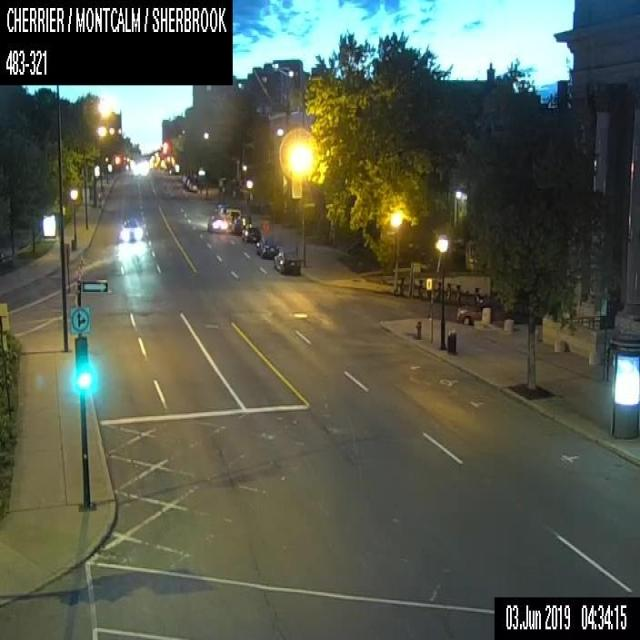vehicle: (456, 296, 506, 325), (273, 250, 300, 274), (254, 234, 279, 258), (119, 215, 142, 241), (223, 207, 240, 229), (241, 222, 259, 242), (206, 214, 226, 232), (230, 217, 243, 232), (187, 180, 198, 191)
